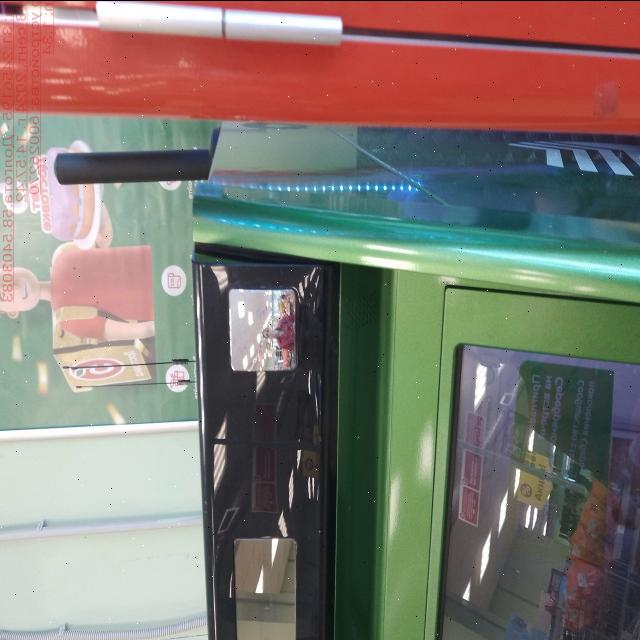bank: (189, 113, 639, 640)
